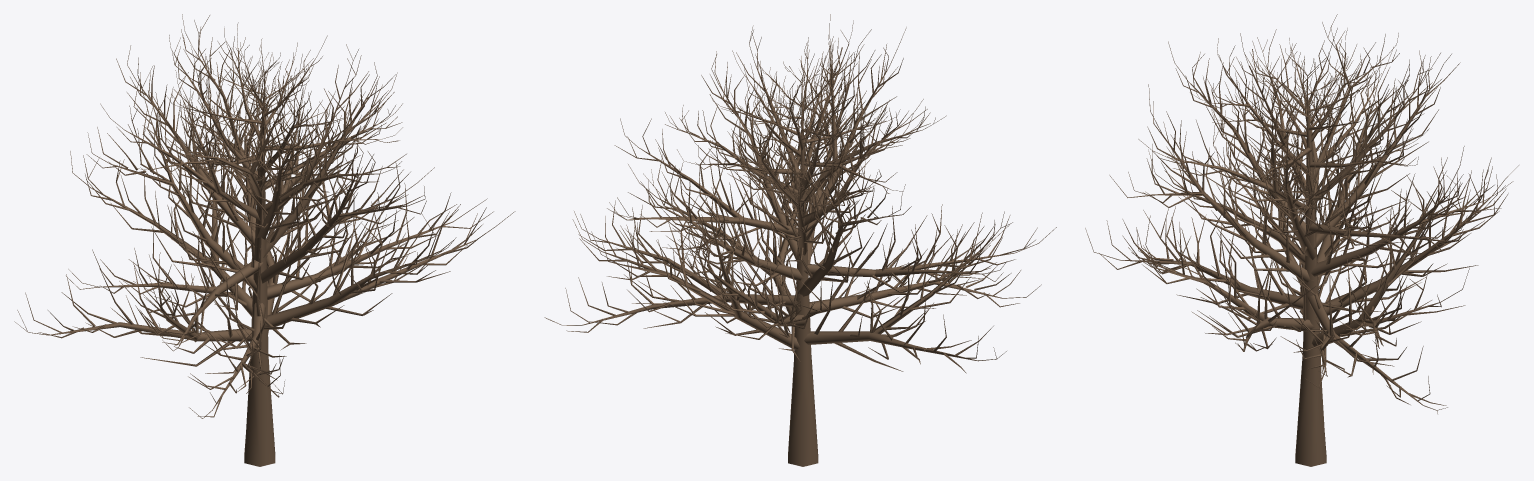
Rendered from pommier_hiver.glb.
The picture shows the model from 3 angles, left to right: view 1: azimuth 30°, elevation 25°; view 2: azimuth 150°, elevation 25°; view 3: azimuth 270°, elevation 25°; orthographic projection. The views are drawn at different scales.
Parts seen in each view (by area): view 1: Pommier_Tronc; view 2: Pommier_Tronc; view 3: Pommier_Tronc.
Part boxes in pixels (bbox=[...]): Pommier_Tronc: bbox=[14, 14, 515, 466]; Pommier_Tronc: bbox=[544, 14, 1056, 466]; Pommier_Tronc: bbox=[1085, 14, 1518, 466].
Size of the model in its own units: 4.73 by 4.23 by 3.88.
